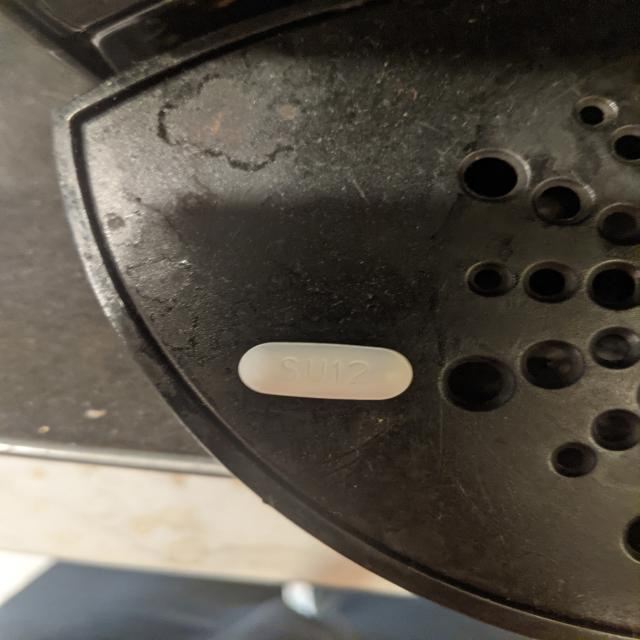non-organic waste: (237, 341, 414, 401)
